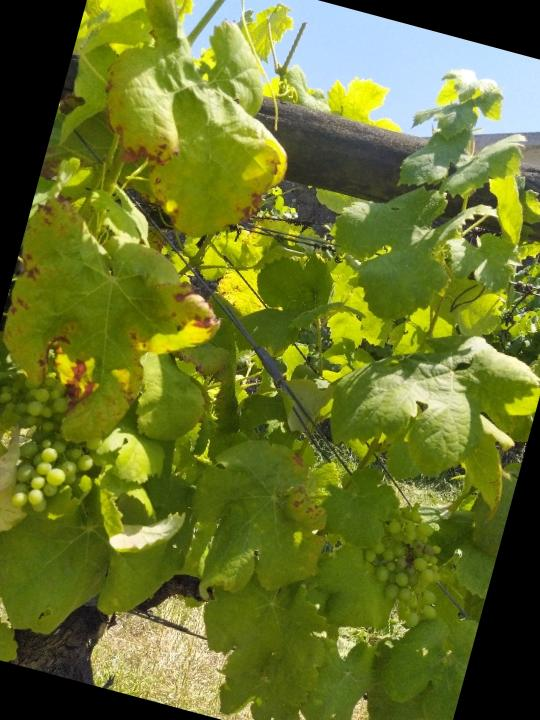grape: (0, 362, 117, 525), (347, 498, 465, 636)
